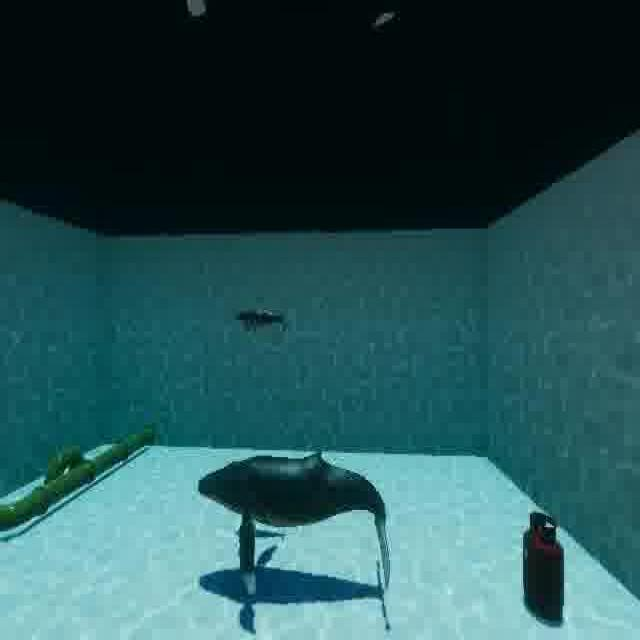Cylinder: (512, 498, 570, 628)
Pipe: (0, 416, 159, 540)
Whale: (190, 441, 411, 618), (228, 294, 302, 350)
